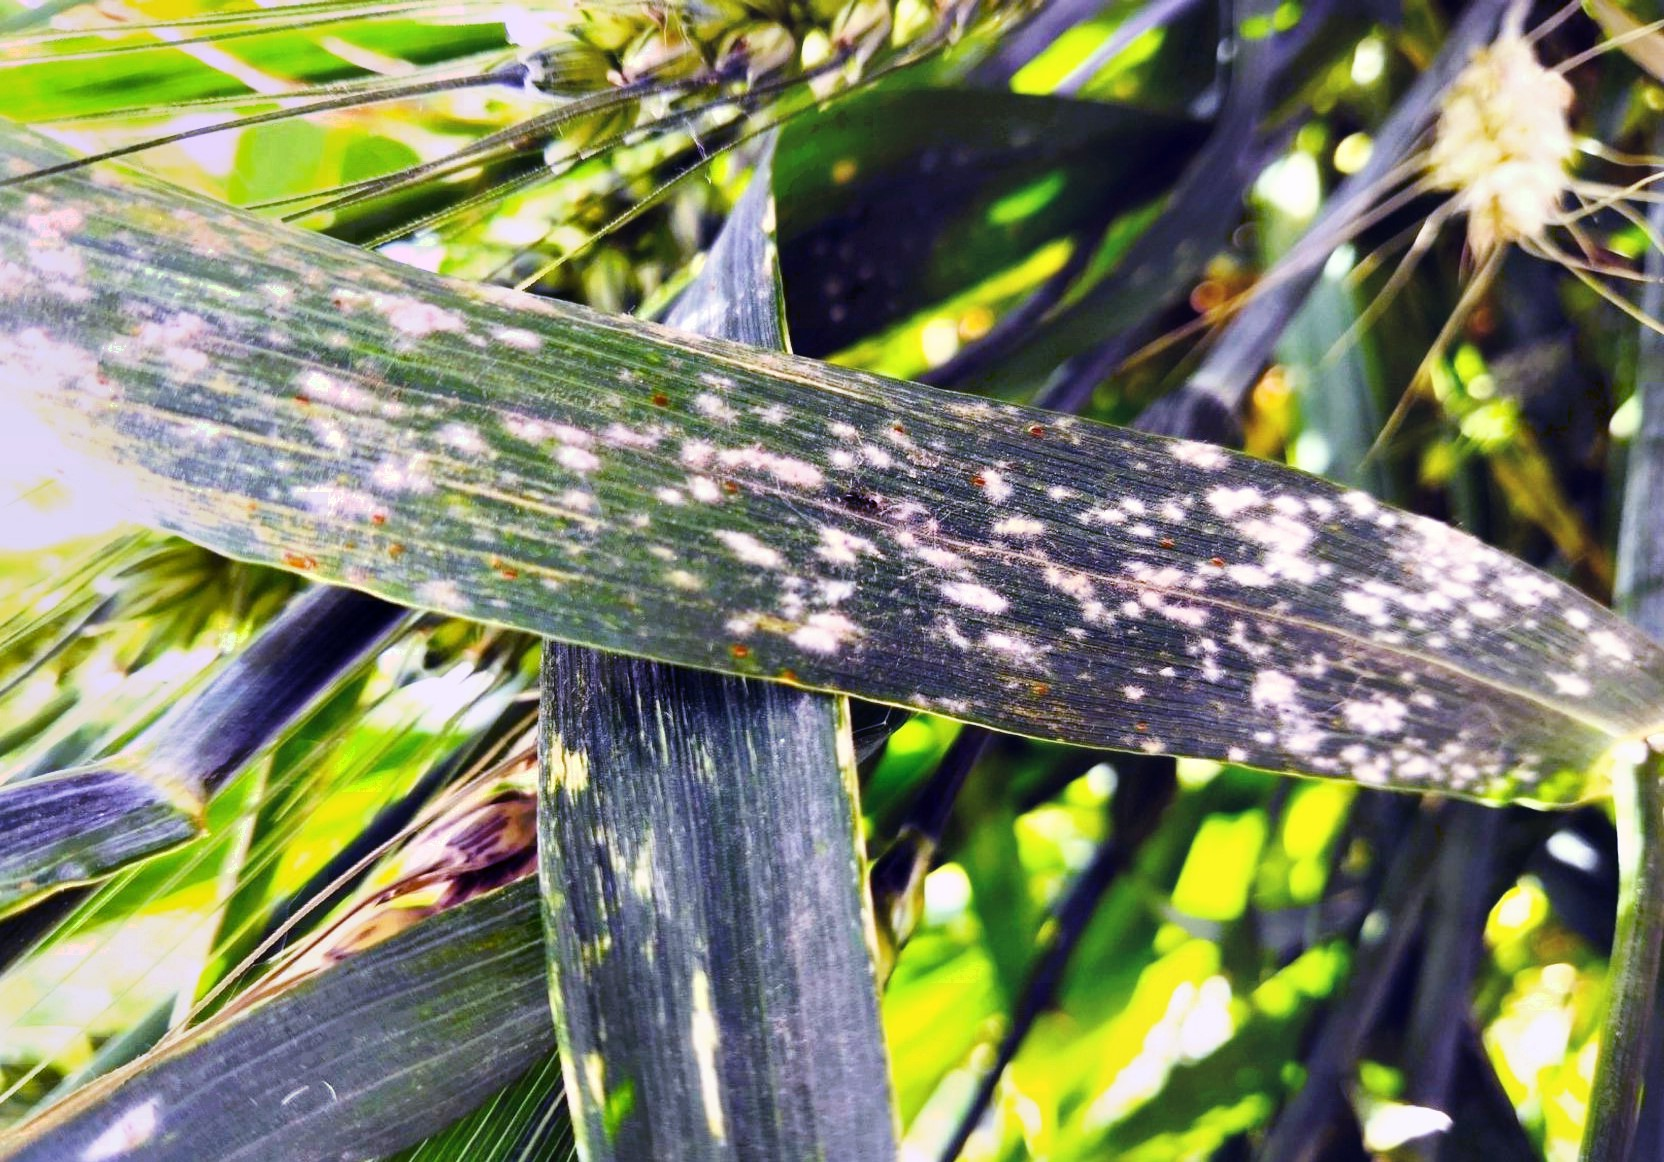Powdery Mildew: (320, 279, 1473, 816)
